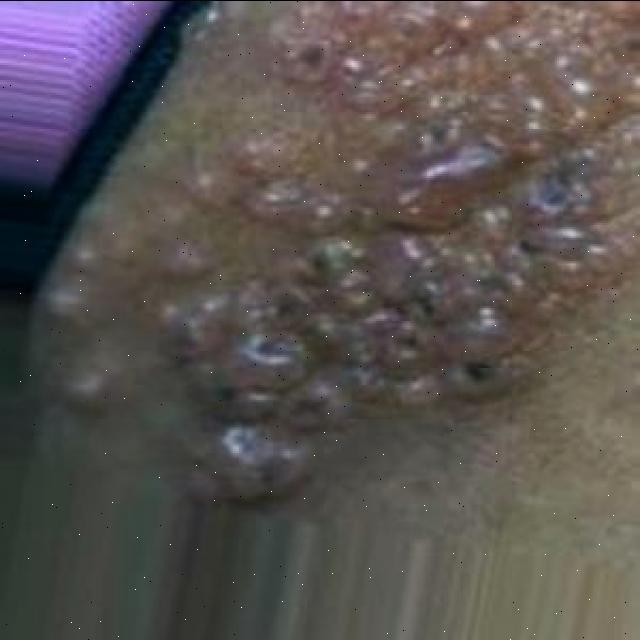Shingles: (37, 0, 640, 505)
